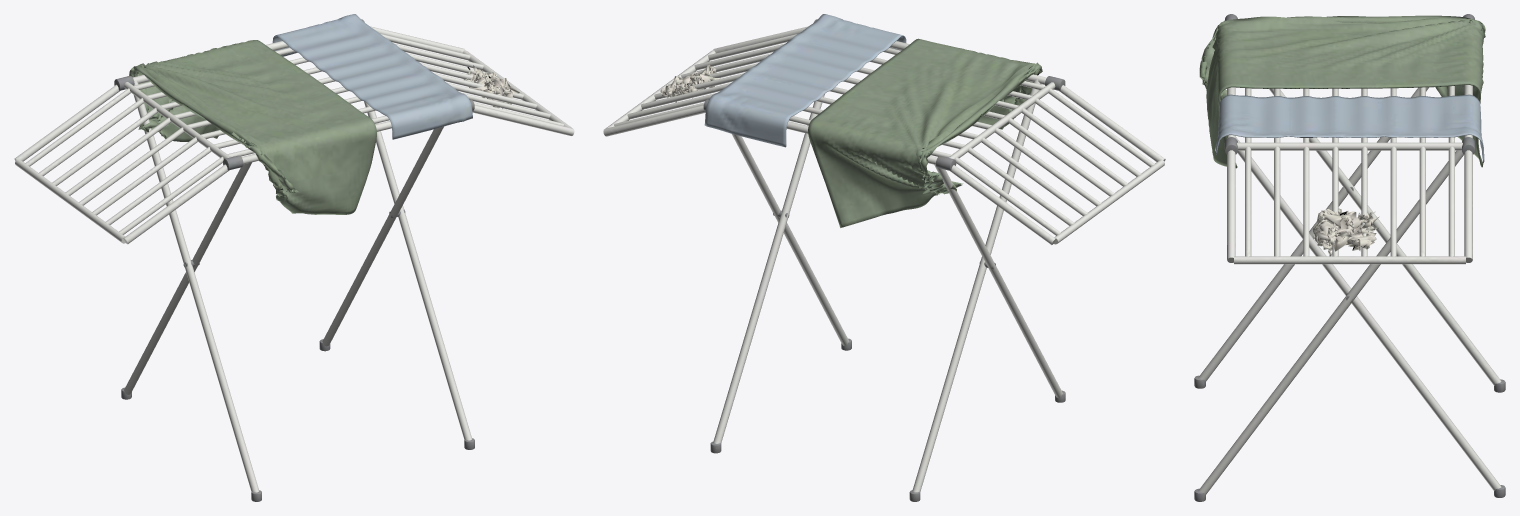
The model's file is w51rack.glb.
3 renders of one model, left to right at view 1: azimuth 30°, elevation 25°; view 2: azimuth 150°, elevation 25°; view 3: azimuth 270°, elevation 25°, orthographic. The views are drawn at different scales.
Visible parts, largest first — view 1: rack; view 2: rack; view 3: rack.
Part boxes in pixels (x1=…): rack: x1=14, y1=14, x2=574, y2=501; rack: x1=603, y1=14, x2=1165, y2=501; rack: x1=1194, y1=14, x2=1505, y2=501.
Size of the model in its own units: 1.35 by 0.9826 by 0.7376.
1 material, 1 textured.
